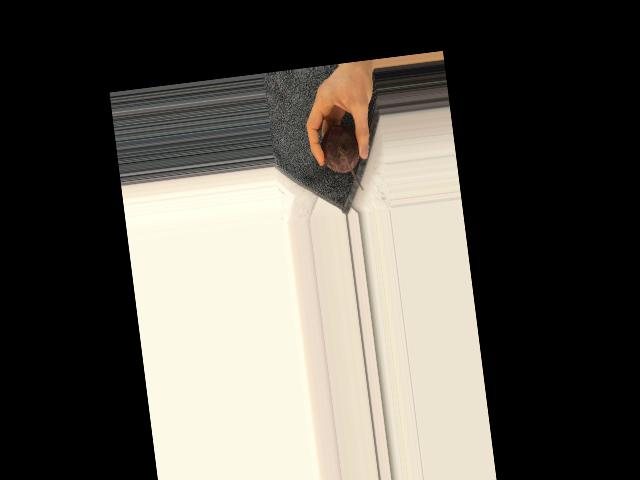beet: (319, 123, 364, 195)
